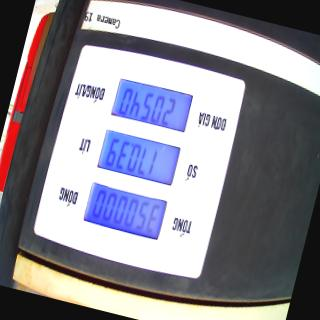screen: (78, 70, 198, 247)
